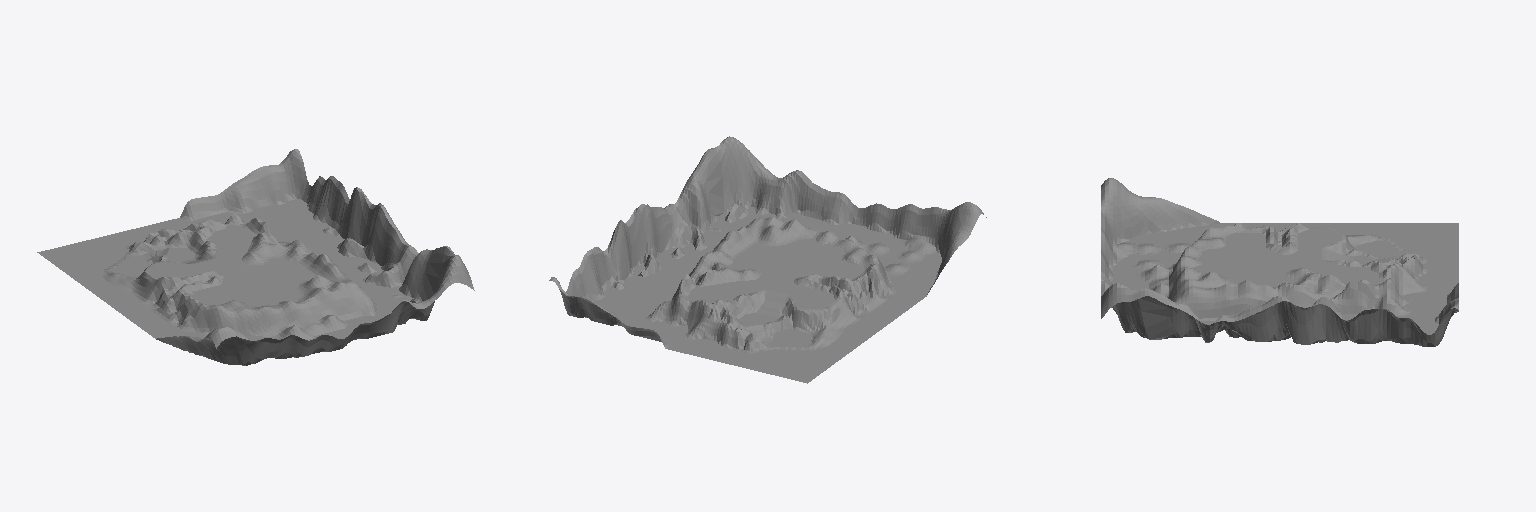
Rendered from ZLMJ.obj.
The picture shows the model from 3 angles: view 1: azimuth 30°, elevation 25°; view 2: azimuth 150°, elevation 25°; view 3: azimuth 270°, elevation 25°; orthographic projection.
Visible parts, largest first — view 1: ZLMJ_terrain_01, ZLMJ_terrain_03, ZLMJ_terrain_04, ZLMJ_terrain_02, ZLMJ_terrain_05, ZLMJ_terrain_07; view 2: ZLMJ_terrain_01, ZLMJ_terrain_05, ZLMJ_terrain_04, ZLMJ_terrain_07, ZLMJ_terrain_02, ZLMJ_terrain_03; view 3: ZLMJ_terrain_01, ZLMJ_terrain_07, ZLMJ_terrain_04, ZLMJ_terrain_02, ZLMJ_terrain_03, ZLMJ_terrain_05.
Boxes of the visible parts, <box> form: ZLMJ_terrain_01: <box>102,214,310,310</box>; ZLMJ_terrain_03: <box>37,149,314,314</box>; ZLMJ_terrain_04: <box>267,176,417,289</box>; ZLMJ_terrain_02: <box>153,250,360,327</box>; ZLMJ_terrain_05: <box>304,246,474,349</box>; ZLMJ_terrain_07: <box>123,302,340,365</box>; ZLMJ_terrain_01: <box>645,251,869,353</box>; ZLMJ_terrain_05: <box>674,136,861,243</box>; ZLMJ_terrain_04: <box>572,204,724,317</box>; ZLMJ_terrain_07: <box>838,202,986,320</box>; ZLMJ_terrain_02: <box>714,217,891,311</box>; ZLMJ_terrain_03: <box>549,277,892,383</box>; ZLMJ_terrain_01: <box>1282,223,1426,315</box>; ZLMJ_terrain_07: <box>1101,178,1291,285</box>; ZLMJ_terrain_04: <box>1214,287,1418,344</box>; ZLMJ_terrain_02: <box>1181,223,1281,297</box>; ZLMJ_terrain_03: <box>1287,223,1458,346</box>; ZLMJ_terrain_05: <box>1101,267,1216,342</box>.
Bounding box in the file's own units: 99.08 × 22.45 × 119.